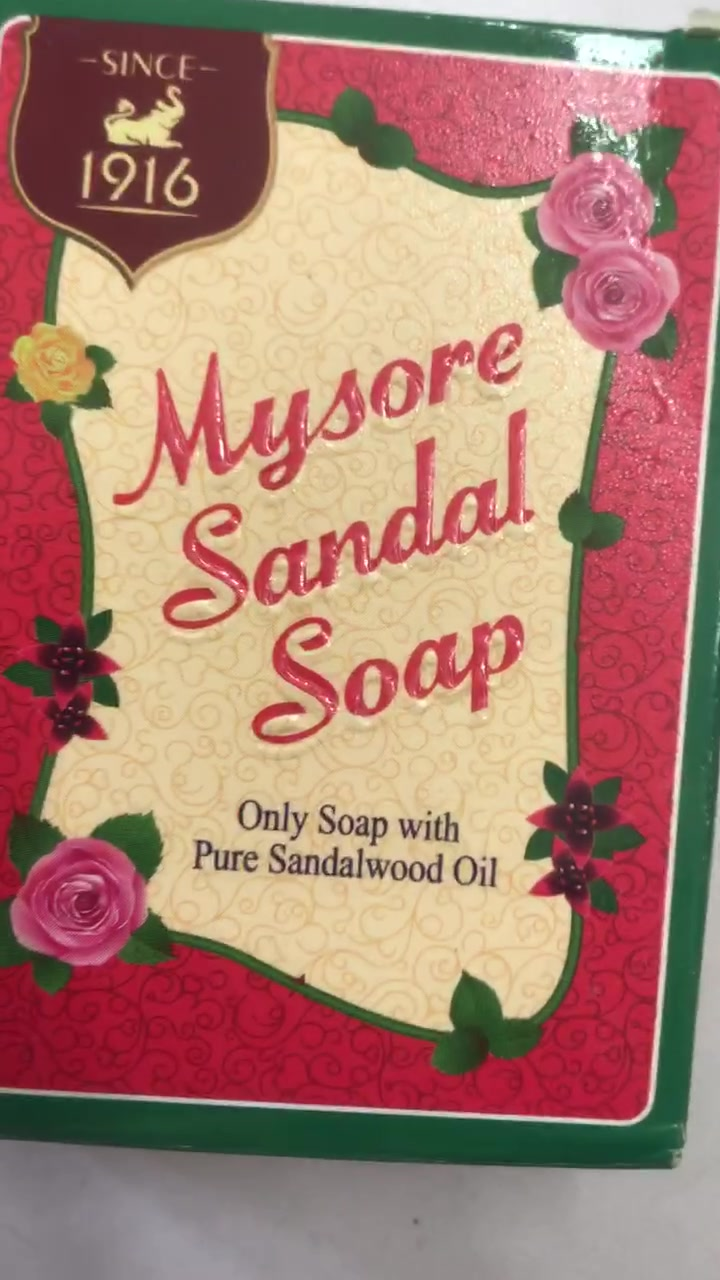mysore sandal soap: (46, 114, 620, 1055)
